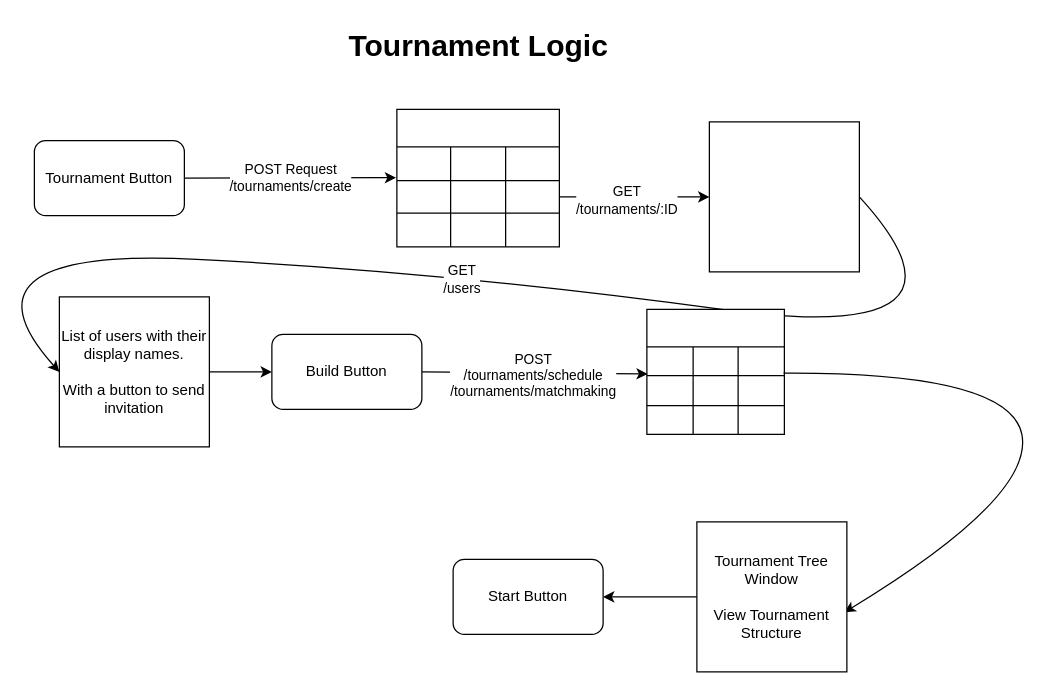
Image size: 1045x694. Some labels were removed from this diagram. The centre of each missing label's shape, as x and y in pixels:
"Sending invitation window" goes at point 783,196.
"Table" goes at point 715,371.
"Tournaments" goes at point 477,177.
